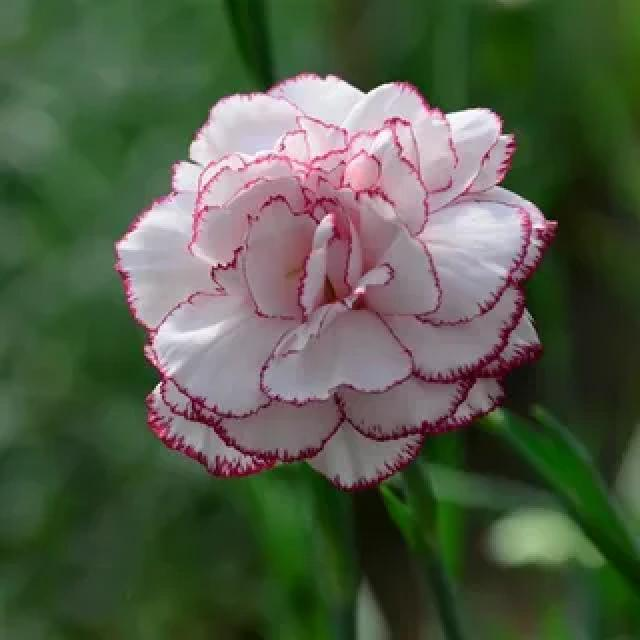carnation: (94, 53, 568, 493)
